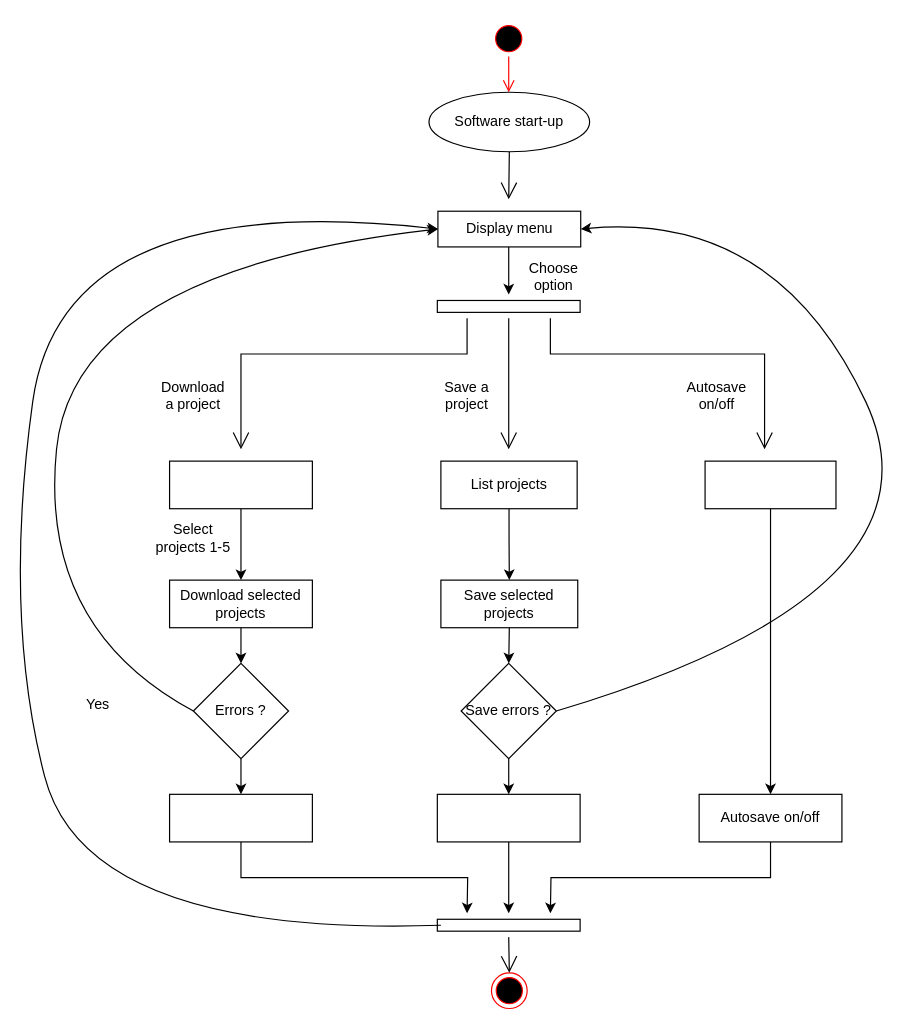
This 904x1029 diagram has some shape labels left out. Here are the shapes that lost their labels. From the top down, the box of each, then its label:
(168, 460, 312, 509): List saved projects
(704, 460, 836, 509): Activate/desactivate the autosave
(168, 793, 312, 842): Projects downloaded
(436, 793, 580, 842): Projects saved
